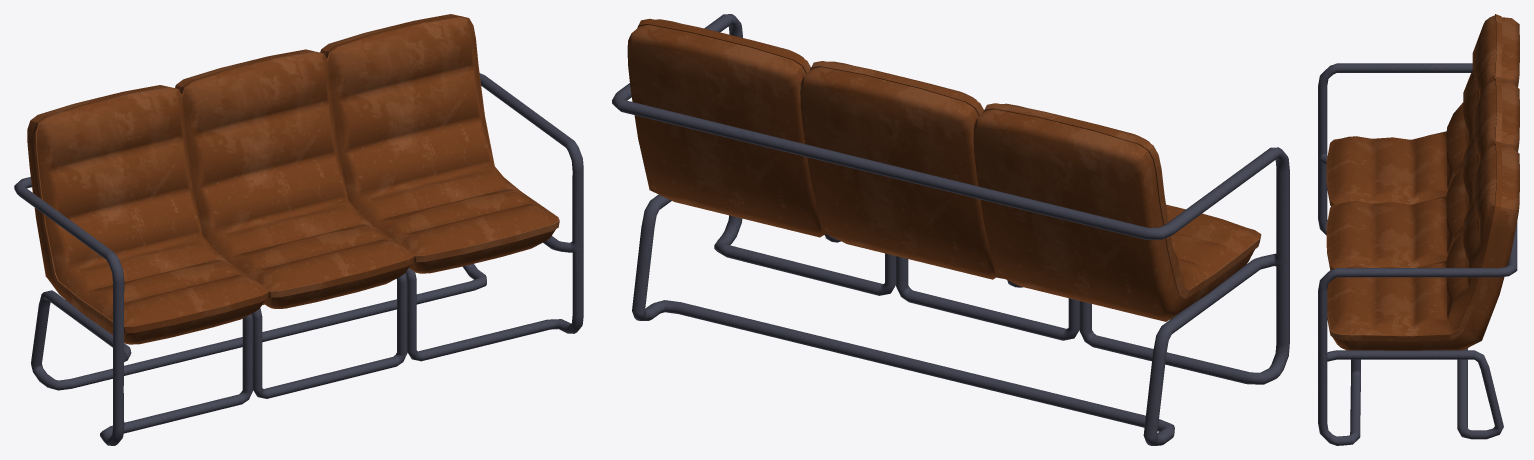
The model's file is Long_Chair.glb.
The picture shows the model from 3 angles, left to right: view 1: azimuth 30°, elevation 25°; view 2: azimuth 150°, elevation 25°; view 3: azimuth 270°, elevation 25°; orthographic projection. The views are drawn at different scales.
Visible parts, largest first — view 1: Long_Chair; view 2: Long_Chair; view 3: Long_Chair.
Boxes of the visible parts, left/top/right/bottom form: Long_Chair: left=14, top=14, right=583, bottom=445; Long_Chair: left=612, top=14, right=1289, bottom=445; Long_Chair: left=1318, top=14, right=1519, bottom=445.
Bounding box in the file's own units: 2.22 × 1.19 × 0.9081.
2 materials, 2 textured.
